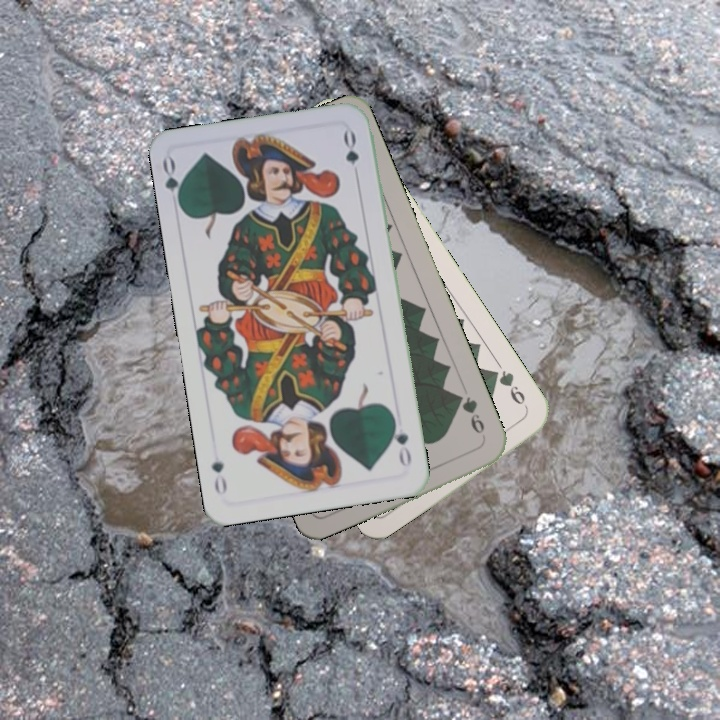G9: (486, 366, 532, 413), (452, 390, 488, 436)
GO: (158, 154, 187, 212), (388, 413, 414, 470)
